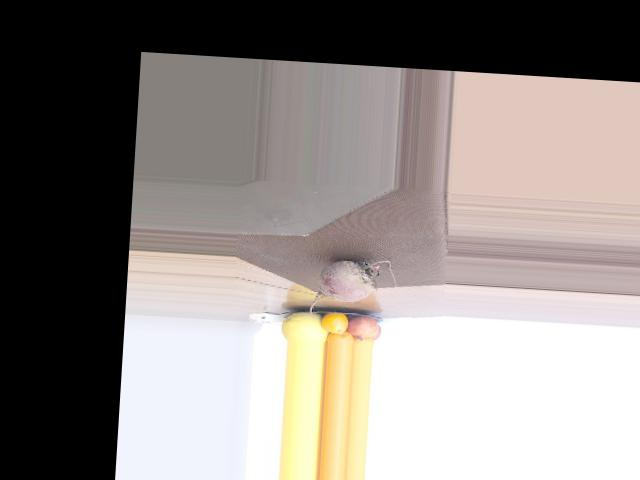beet: (308, 255, 397, 324)
